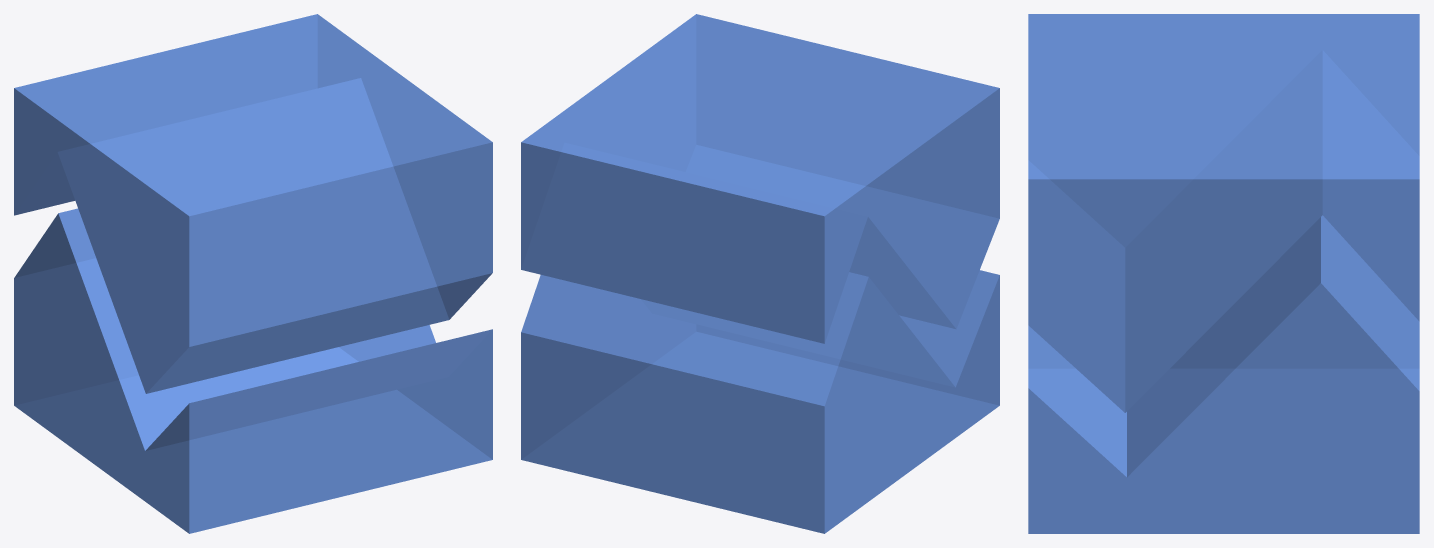
File: trianglecube.dae
3 renders of one model, left to right at view 1: azimuth 30°, elevation 25°; view 2: azimuth 150°, elevation 25°; view 3: azimuth 270°, elevation 25°, orthographic. The views are drawn at different scales.
Parts seen in each view (by area): view 1: group_0 (×2); view 2: group_0 (×2); view 3: group_0 (×2).
Boxes of the visible parts, left/top/right/bottom form: group_0 (×2): left=14, top=14, right=492, bottom=533; group_0 (×2): left=521, top=14, right=999, bottom=533; group_0 (×2): left=1028, top=14, right=1419, bottom=533.
Bounding box in the file's own units: 1 × 1 × 1.
